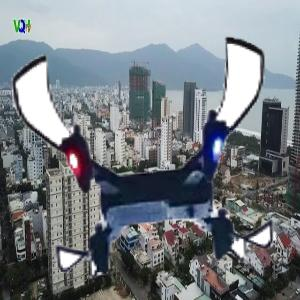drone: (15, 26, 275, 286)
